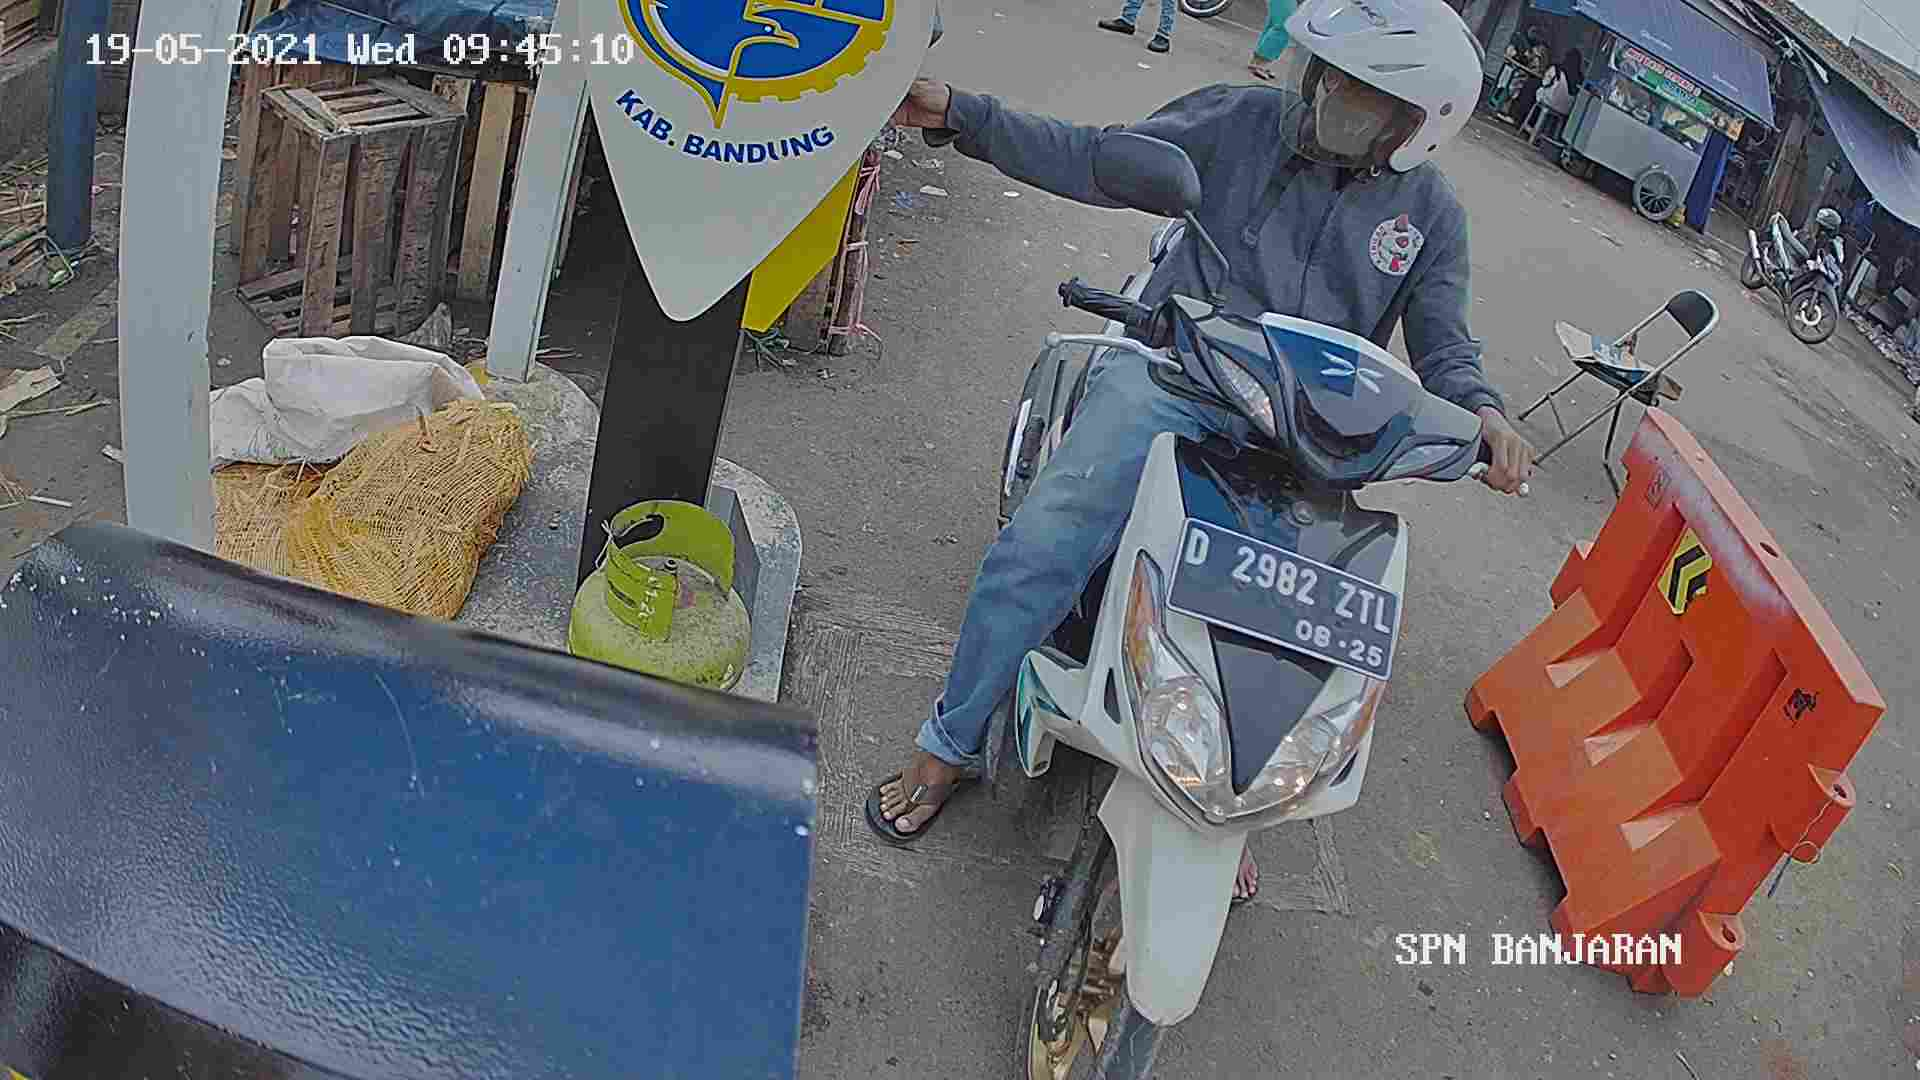motor: (989, 225, 1487, 1080)
